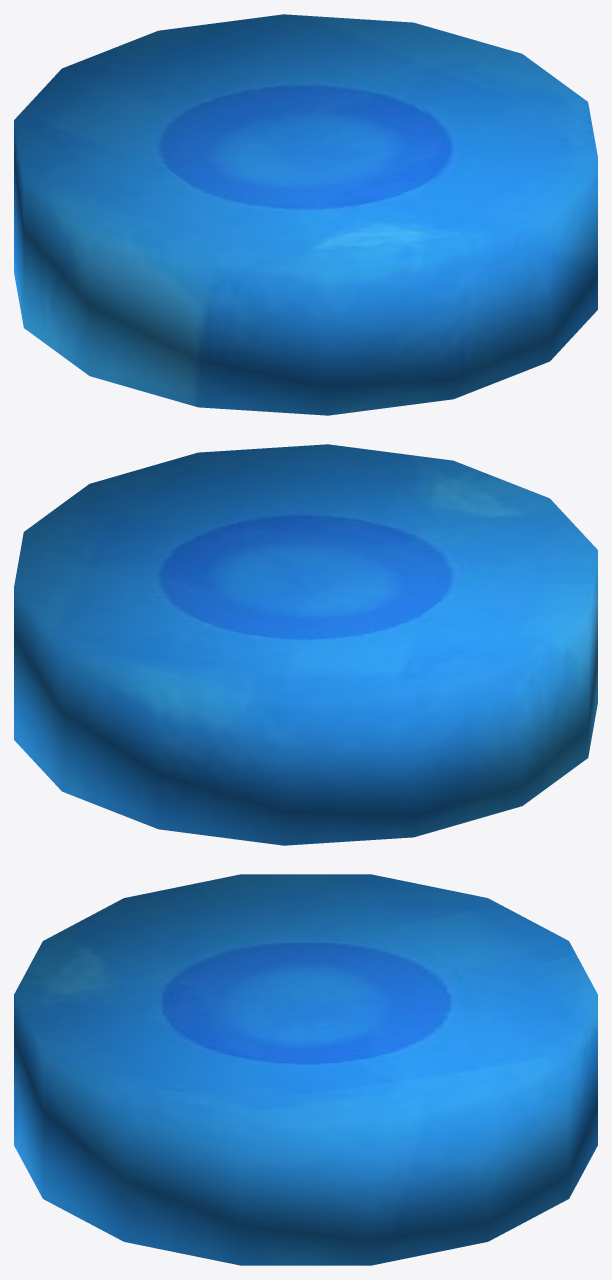
Rendered from tombolaso-checker-blue.glb.
3 views of the same model, one above another, from view 1: azimuth 30°, elevation 25°; view 2: azimuth 150°, elevation 25°; view 3: azimuth 270°, elevation 25° (orthographic).
Visible parts, largest first — view 1: 01_Props.000; view 2: 01_Props.000; view 3: 01_Props.000.
Boxes of the visible parts, left/top/right/bottom form: 01_Props.000: left=14, top=14, right=597, bottom=415; 01_Props.000: left=14, top=444, right=597, bottom=845; 01_Props.000: left=14, top=874, right=597, bottom=1265.
Size of the model in its own units: 108 by 31.66 by 111.
1 material, 1 textured.
